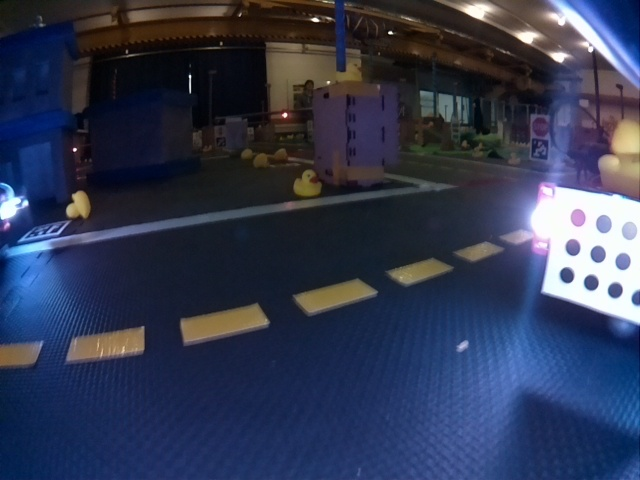Duckie: (598, 120, 638, 195), (292, 170, 322, 196), (67, 191, 90, 219), (254, 154, 269, 167), (274, 148, 288, 161), (509, 153, 520, 166), (473, 149, 483, 159), (241, 149, 252, 158)
Duckiebot: (530, 180, 639, 329), (2, 183, 28, 234)
QR code: (18, 220, 67, 238), (530, 139, 549, 158)
Stop sign: (532, 116, 548, 136)
